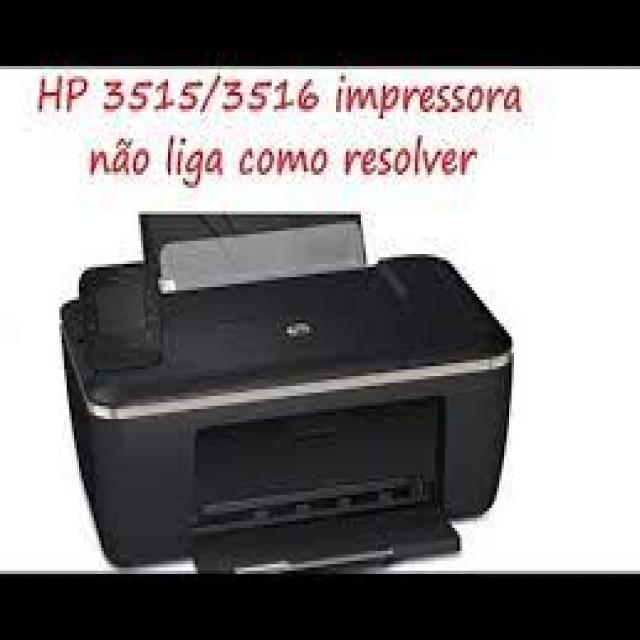printer: (48, 188, 527, 592)
